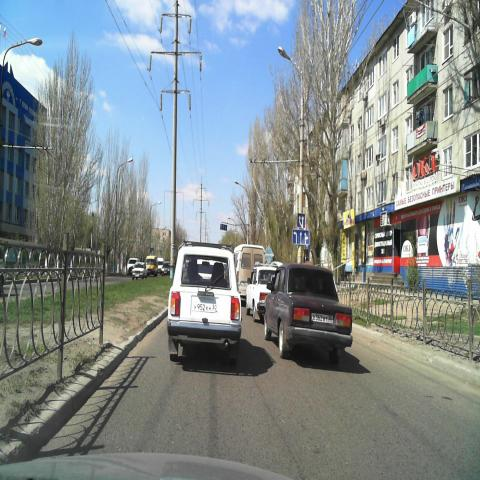5_15_1: (292, 228, 310, 245)
